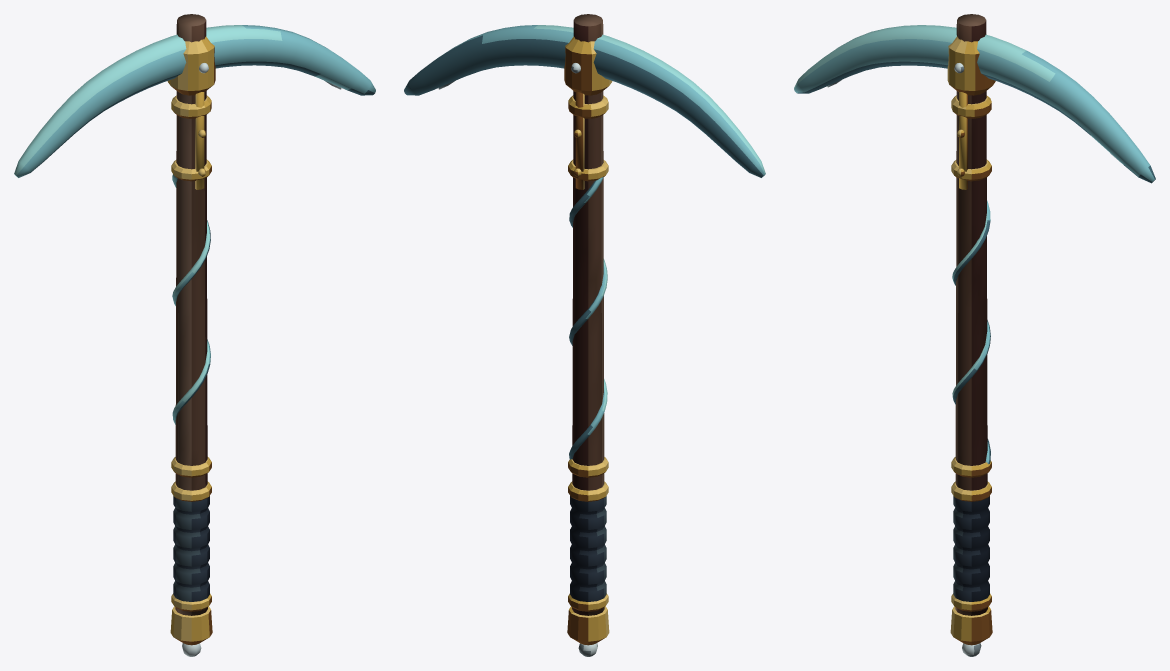
The model's file is tl_pickaxe_mithril.glb.
3 renders of one model, left to right at view 1: azimuth 30°, elevation 25°; view 2: azimuth 150°, elevation 25°; view 3: azimuth 330°, elevation 25°, orthographic.
Visible parts, largest first — view 1: Weapon; view 2: Weapon; view 3: Weapon.
Boxes of the visible parts, box(x1,y1,x2,y2) form: Weapon: box(14, 14, 375, 656); Weapon: box(404, 14, 765, 656); Weapon: box(794, 14, 1155, 656).
Bounding box in the file's own units: 0.5352 × 0.901 × 0.076.
